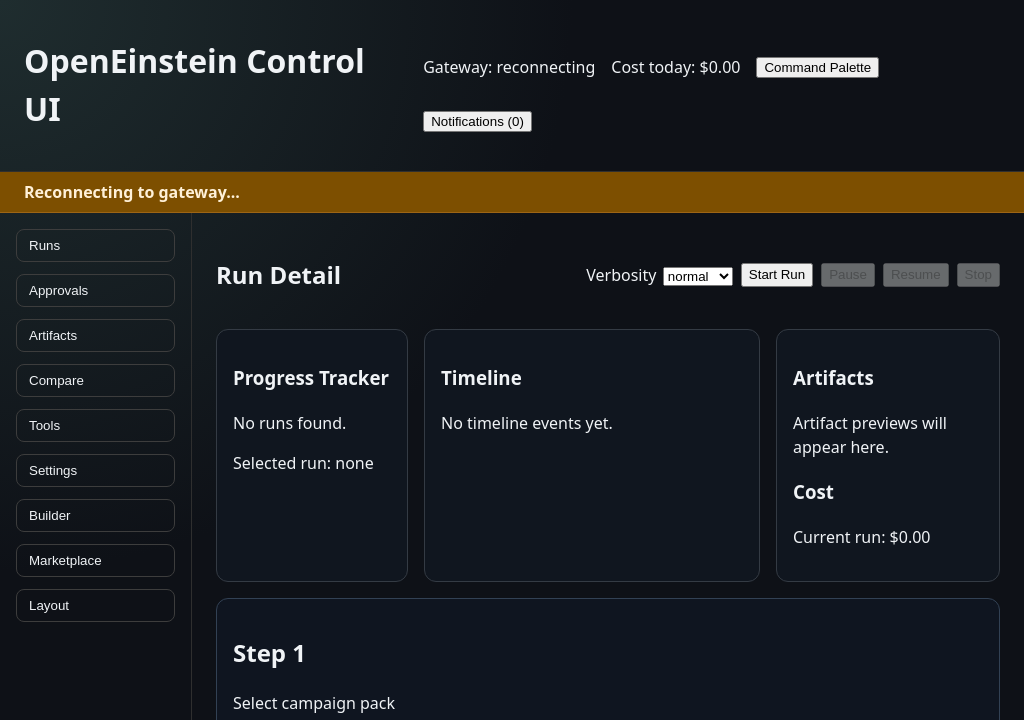
builder and marketplace wiring › installs marketplace pack and starts a run from generated builder schema
This screenshot has width=1024, height=720.
Check: the heading "Run Detail" is shown, box [216,257,341,293]
Click the button "Marketplace".
click(96, 560)  # box [16,544,175,577]
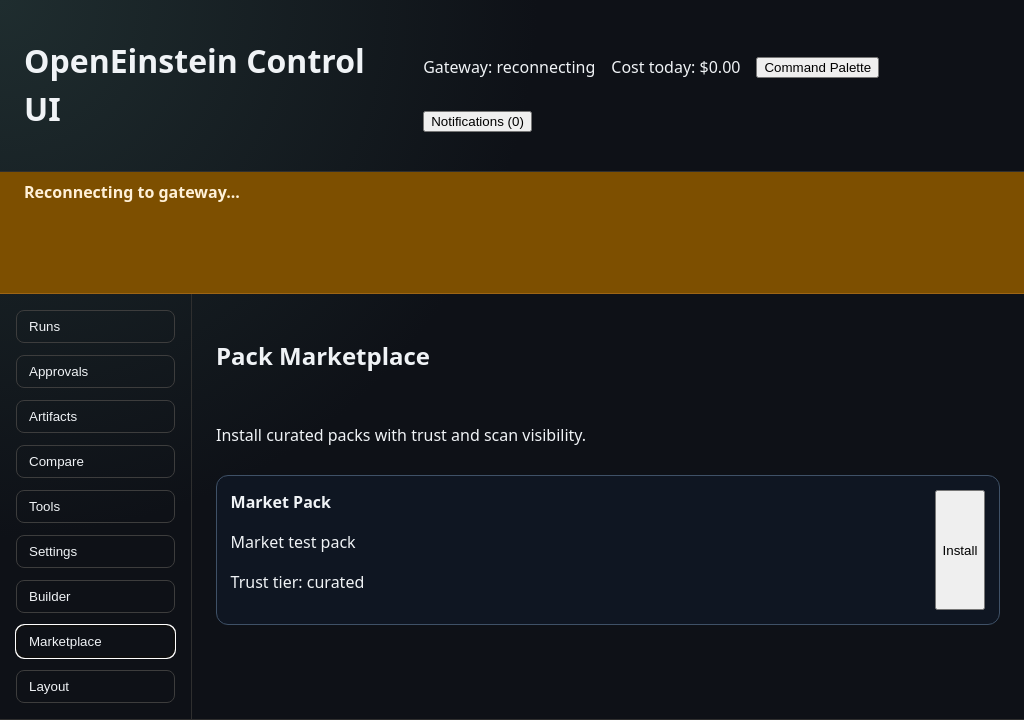
Check: the heading "Pack Marketplace" is shown, box [216,339,430,372]
Click the button "Install".
click(960, 550)  # box [935,490,985,610]
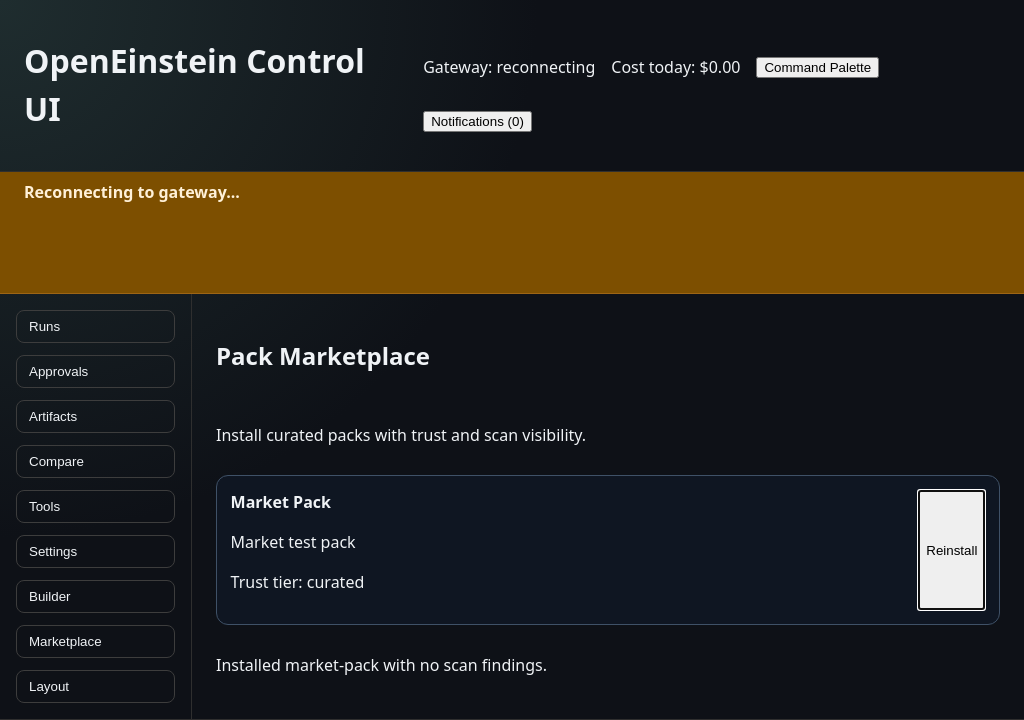
Check: the text "Installed market-pack with no scan findings." is shown, box [216,654,547,676]
Click the button "Builder".
click(96, 596)  # box [16,580,175,613]
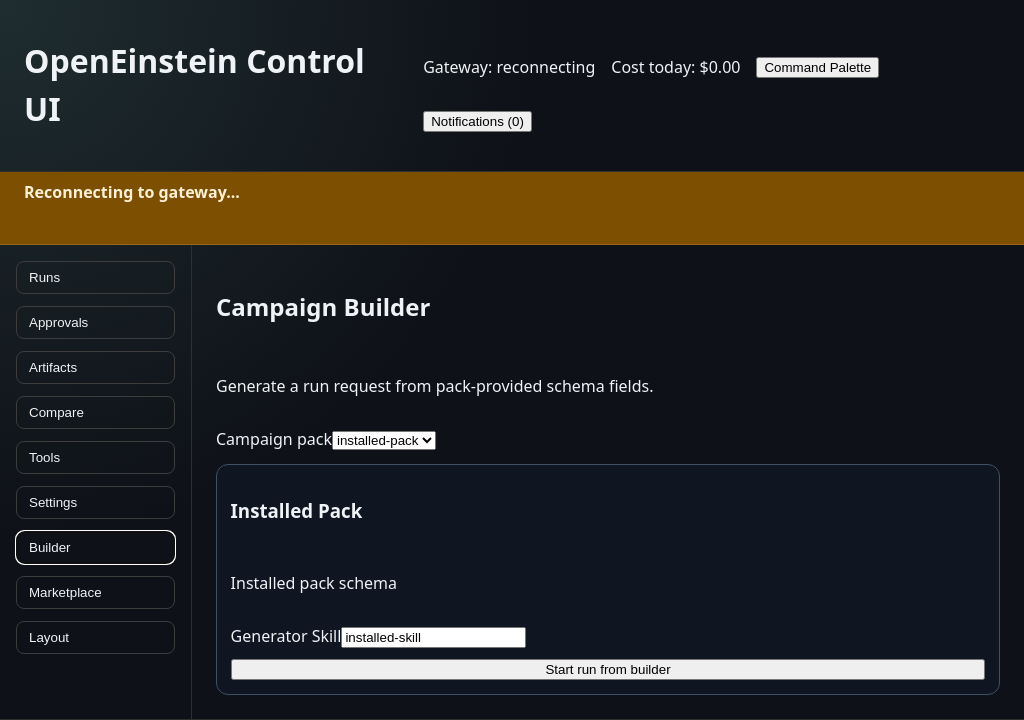
Check: the heading "Campaign Builder" is shown, box [216,290,430,323]
Select "market-pack" in the dropdown labelled "Campaign pack" at point(384, 441), box [332,431,436,450]
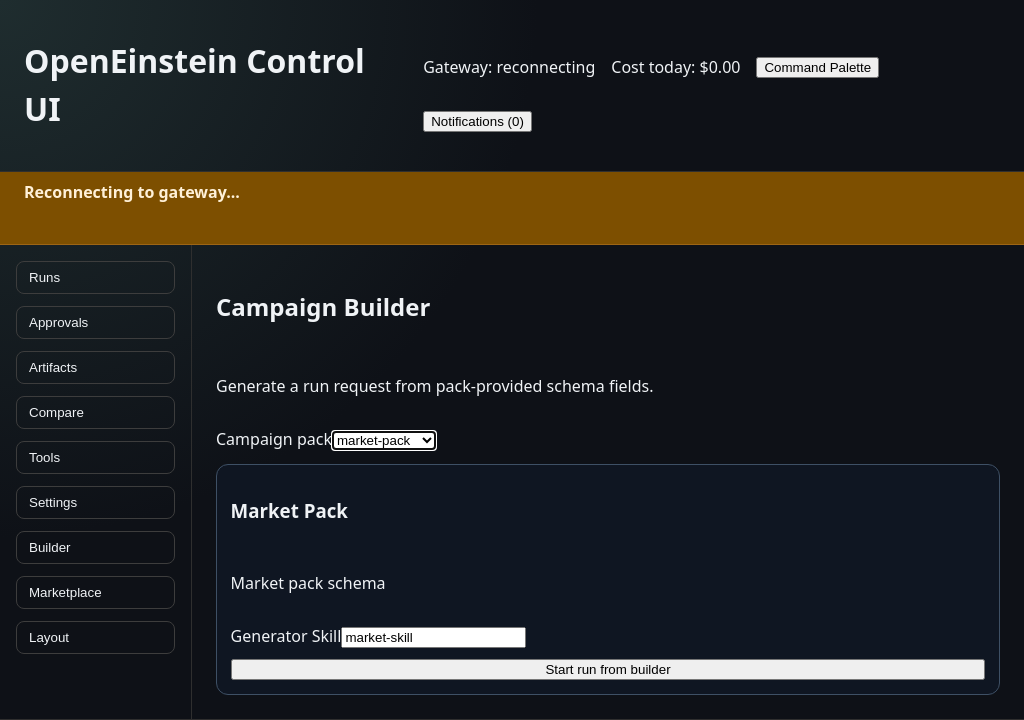
Click the button "Start run from builder".
click(608, 670)  # box [231,659,985,680]
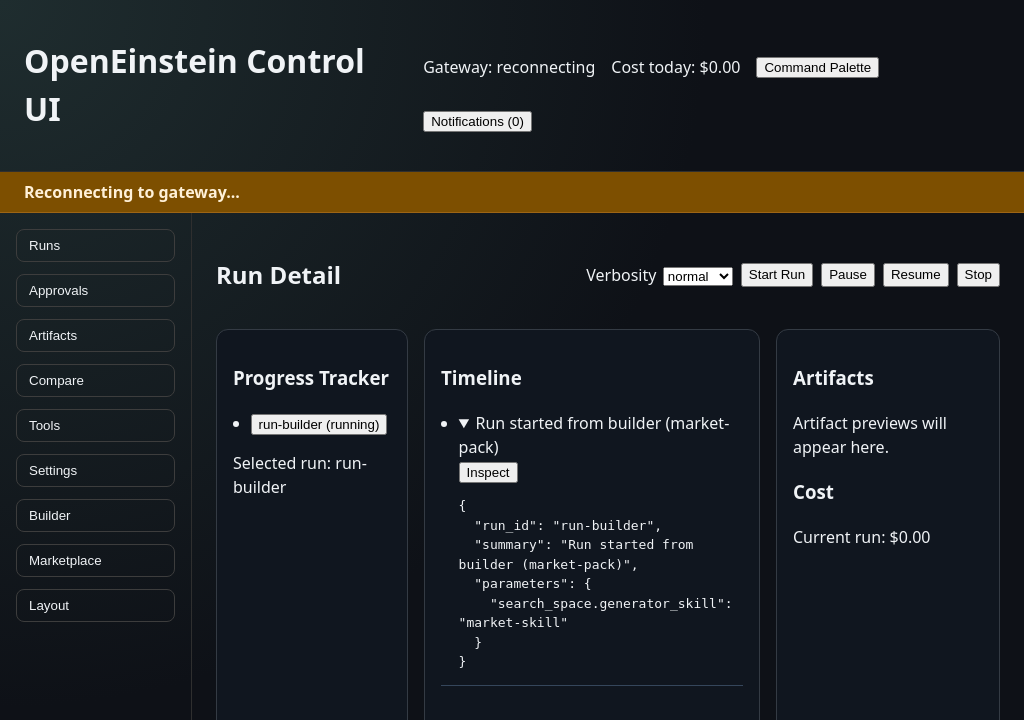
Check: the heading "Run Detail" is shown, box [216,257,341,293]
